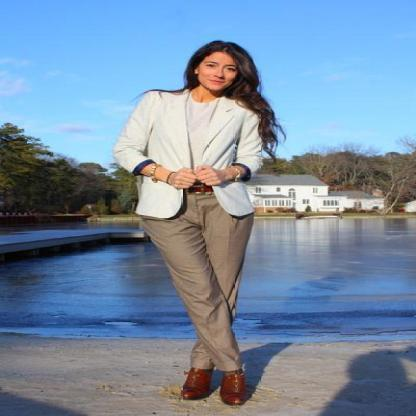jacket: (112, 92, 270, 217)
pants: (150, 188, 272, 371)
shirt: (181, 110, 211, 170)
shoe: (181, 362, 254, 405)
